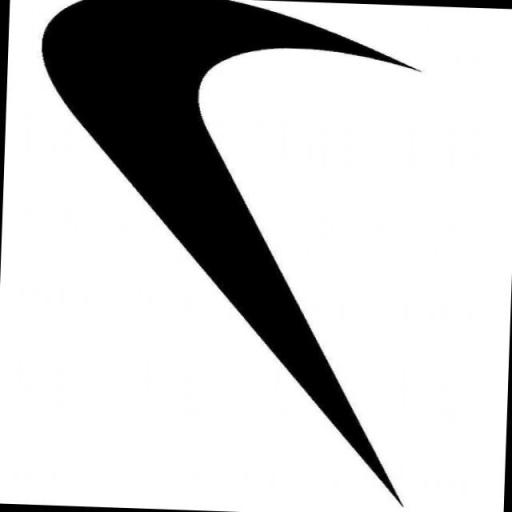Nike: (22, 0, 430, 507)
